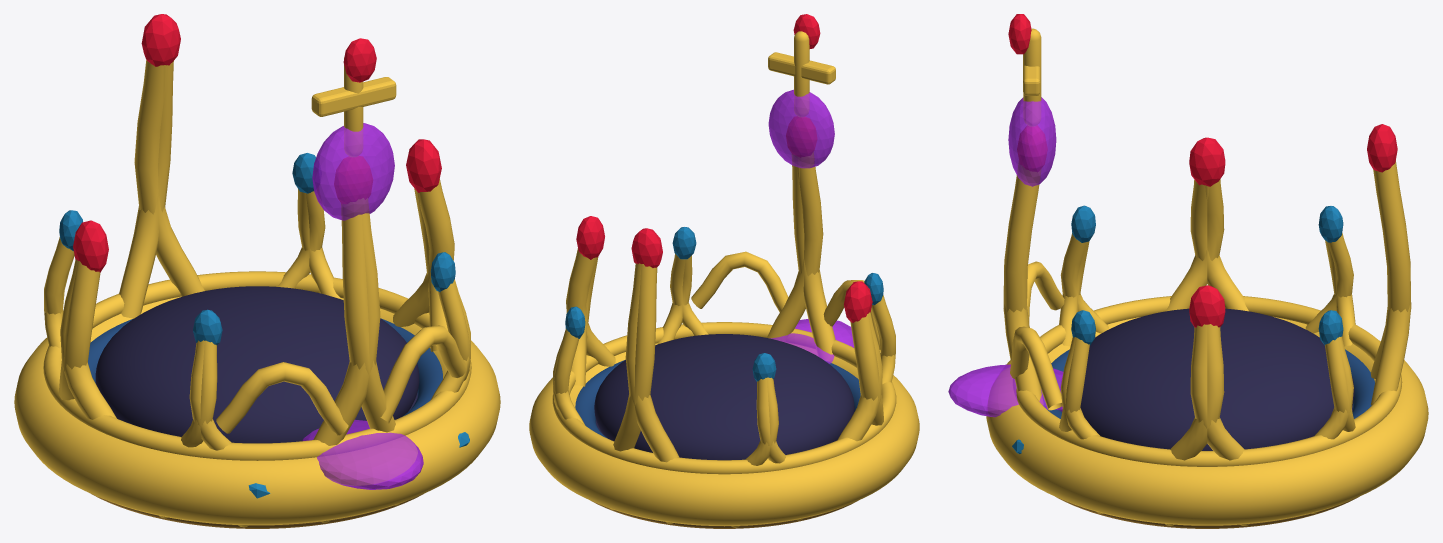
Rendered from crown.glb.
3 renders of one model, left to right at view 1: azimuth 30°, elevation 25°; view 2: azimuth 150°, elevation 25°; view 3: azimuth 270°, elevation 25°, orthographic. The views are drawn at different scales.
Visible parts, largest first — view 1: treasure-crown-handcrafted-substantial-royal-circlet, treasure-crown-handcrafted-recessed-midnight-velvet-cap, treasure-crown-handcrafted-open-fleur-fleur-outline-right.00 (×7), treasure-crown-handcrafted-upper-beaded-gold-wire, treasure-crown-handcrafted-front-amethyst-orb, treasure-crown-handcrafted-open-fleur-fleur-outline-left.004, treasure-crown-handcrafted-front-central-amethyst, treasure-crown-handcrafted-open-fleur-fleur-outline-right, treasure-crown-handcrafted-open-fleur-fleur-outline-left, treasure-crown-handcrafted-front-filigree-scroll, treasure-crown-handcrafted-open-fleur-fleur-outline-left.006, treasure-crown-handcrafted-front-filigree-scroll.001 (+18 smaller); view 2: treasure-crown-handcrafted-substantial-royal-circlet, treasure-crown-handcrafted-recessed-midnight-velvet-cap, treasure-crown-handcrafted-open-fleur-fleur-outline-right.00 (×7), treasure-crown-handcrafted-upper-beaded-gold-wire, treasure-crown-handcrafted-front-amethyst-orb, treasure-crown-handcrafted-open-fleur-fleur-outline-right, treasure-crown-handcrafted-open-fleur-fleur-outline-left.004, treasure-crown-handcrafted-open-fleur-fleur-outline-left, treasure-crown-handcrafted-front-filigree-scroll.001, treasure-crown-handcrafted-open-fleur-fleur-outline-left.002, treasure-crown-handcrafted-lapis-enamel-band, treasure-crown-handcrafted-open-fleur-fleur-outline-left.006 (+16 smaller); view 3: treasure-crown-handcrafted-substantial-royal-circlet, treasure-crown-handcrafted-recessed-midnight-velvet-cap, treasure-crown-handcrafted-open-fleur-fleur-outline-right.00 (×7), treasure-crown-handcrafted-upper-beaded-gold-wire, treasure-crown-handcrafted-open-fleur-fleur-outline-left, treasure-crown-handcrafted-front-amethyst-orb, treasure-crown-handcrafted-front-central-amethyst, treasure-crown-handcrafted-open-fleur-fleur-outline-left.002, treasure-crown-handcrafted-open-fleur-fleur-outline-left.006, treasure-crown-handcrafted-open-fleur-fleur-outline-left.004, treasure-crown-handcrafted-front-filigree-scroll.001, treasure-crown-handcrafted-lapis-enamel-band (+17 smaller).
Boxes of the visible parts, x1,y1,x2,y2 form: treasure-crown-handcrafted-substantial-royal-circlet: [14, 296, 500, 525]; treasure-crown-handcrafted-recessed-midnight-velvet-cap: [95, 286, 419, 443]; treasure-crown-handcrafted-open-fleur-fleur-outline-right.00 (×7): [44, 61, 470, 450]; treasure-crown-handcrafted-upper-beaded-gold-wire: [43, 271, 471, 460]; treasure-crown-handcrafted-front-amethyst-orb: [312, 123, 394, 220]; treasure-crown-handcrafted-open-fleur-fleur-outline-left.004: [134, 60, 204, 296]; treasure-crown-handcrafted-front-central-amethyst: [302, 419, 423, 489]; treasure-crown-handcrafted-open-fleur-fleur-outline-right: [341, 199, 395, 432]; treasure-crown-handcrafted-open-fleur-fleur-outline-left: [313, 198, 380, 445]; treasure-crown-handcrafted-front-filigree-scroll: [216, 362, 348, 435]; treasure-crown-handcrafted-open-fleur-fleur-outline-left.006: [58, 261, 100, 400]; treasure-crown-handcrafted-front-filigree-scroll.001: [380, 325, 466, 422]; treasure-crown-handcrafted-substantial-royal-circlet: [529, 343, 919, 526]; treasure-crown-handcrafted-recessed-midnight-velvet-cap: [594, 334, 854, 460]; treasure-crown-handcrafted-open-fleur-fleur-outline-right.00 (×7): [553, 255, 895, 463]; treasure-crown-handcrafted-upper-beaded-gold-wire: [552, 322, 896, 474]; treasure-crown-handcrafted-front-amethyst-orb: [768, 89, 834, 168]; treasure-crown-handcrafted-open-fleur-fleur-outline-right: [766, 152, 823, 341]; treasure-crown-handcrafted-open-fleur-fleur-outline-left.004: [613, 264, 657, 451]; treasure-crown-handcrafted-open-fleur-fleur-outline-left: [792, 154, 835, 359]; treasure-crown-handcrafted-front-filigree-scroll.001: [691, 251, 788, 312]; treasure-crown-handcrafted-open-fleur-fleur-outline-left.002: [566, 248, 615, 366]; treasure-crown-handcrafted-lapis-enamel-band: [575, 360, 860, 438]; treasure-crown-handcrafted-open-fleur-fleur-outline-left.006: [837, 312, 882, 441]; treasure-crown-handcrafted-substantial-royal-circlet: [986, 317, 1428, 525]; treasure-crown-handcrafted-recessed-midnight-velvet-cap: [1060, 308, 1354, 450]; treasure-crown-handcrafted-open-fleur-fleur-outline-right.00 (×7): [1059, 162, 1411, 460]; treasure-crown-handcrafted-upper-beaded-gold-wire: [1013, 296, 1402, 466]; treasure-crown-handcrafted-open-fleur-fleur-outline-left: [1003, 163, 1040, 327]; treasure-crown-handcrafted-front-amethyst-orb: [1008, 97, 1056, 186]; treasure-crown-handcrafted-front-central-amethyst: [948, 364, 1063, 417]; treasure-crown-handcrafted-open-fleur-fleur-outline-left.002: [1170, 324, 1224, 460]; treasure-crown-handcrafted-open-fleur-fleur-outline-left.006: [1190, 179, 1248, 311]; treasure-crown-handcrafted-open-fleur-fleur-outline-left.004: [1371, 160, 1411, 405]; treasure-crown-handcrafted-front-filigree-scroll.001: [1010, 326, 1062, 410]; treasure-crown-handcrafted-lapis-enamel-band: [1042, 337, 1374, 418].
Bounding box in the file's own units: 1.29 × 1.45 × 1.4.
